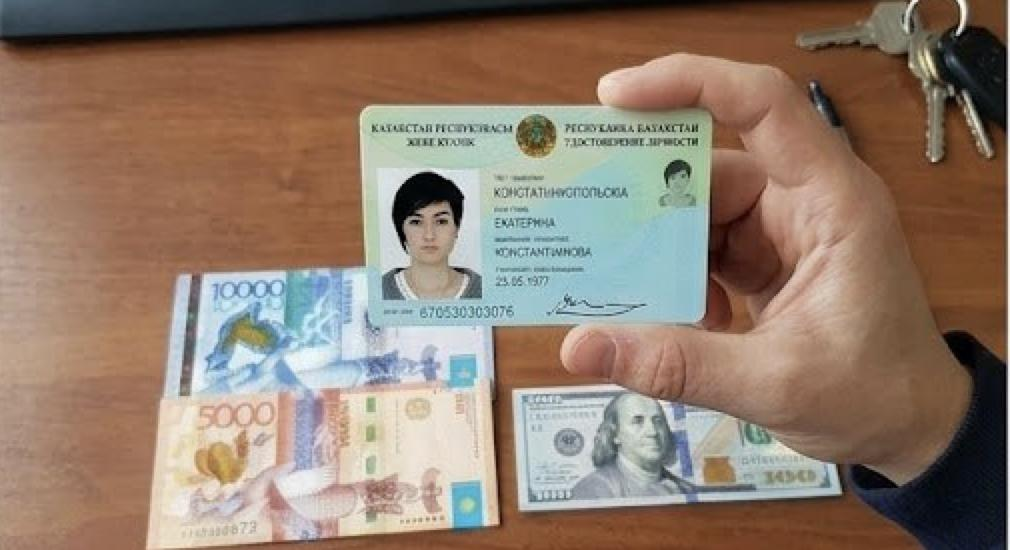cash_stack: (145, 393, 504, 550), (509, 383, 847, 519), (164, 272, 492, 399)
document: (353, 102, 708, 333)
